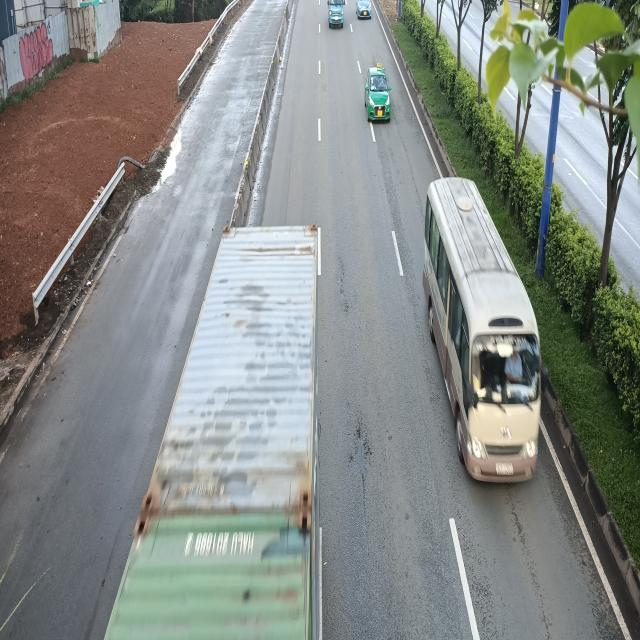car: (366, 67, 392, 123)
coach: (417, 176, 540, 489)
container: (106, 219, 318, 640)
